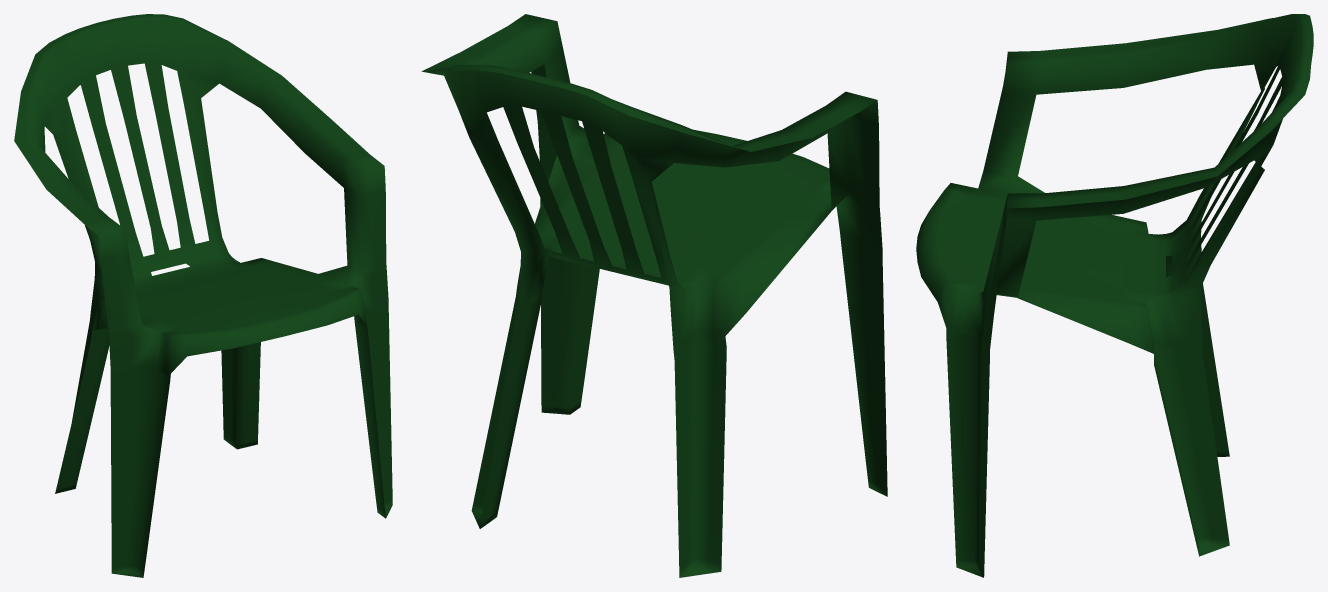
Rendered from chair.glb.
The picture shows the model from 3 angles, left to right: view 1: azimuth 30°, elevation 25°; view 2: azimuth 150°, elevation 25°; view 3: azimuth 270°, elevation 25°; orthographic projection. The views are drawn at different scales.
Parts seen in each view (by area): view 1: Monobloc_0; view 2: Monobloc_0; view 3: Monobloc_0.
Boxes of the visible parts, bbox=[...] form: Monobloc_0: bbox=[14, 14, 392, 577]; Monobloc_0: bbox=[421, 14, 887, 577]; Monobloc_0: bbox=[916, 14, 1313, 577].
Bounding box in the file's own units: 0.559 × 0.7688 × 0.6001.
